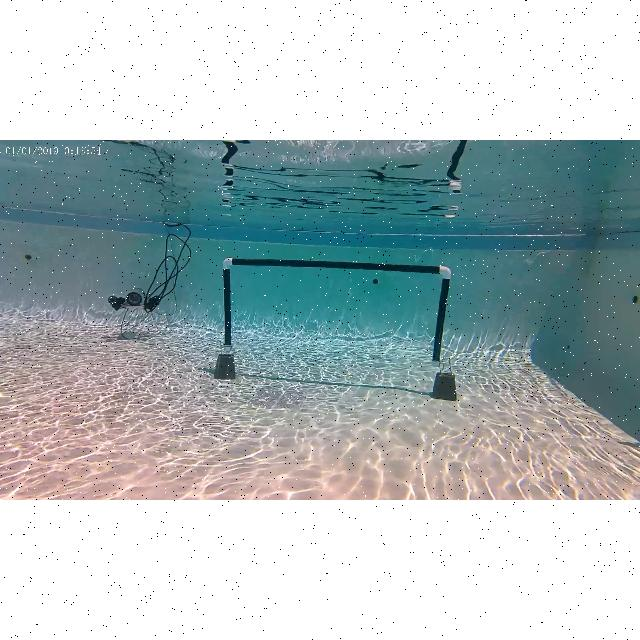prequal gate: (222, 258, 452, 368)
prequal gate leg l: (219, 254, 243, 376)
prequal gate leg r: (432, 260, 454, 386)
